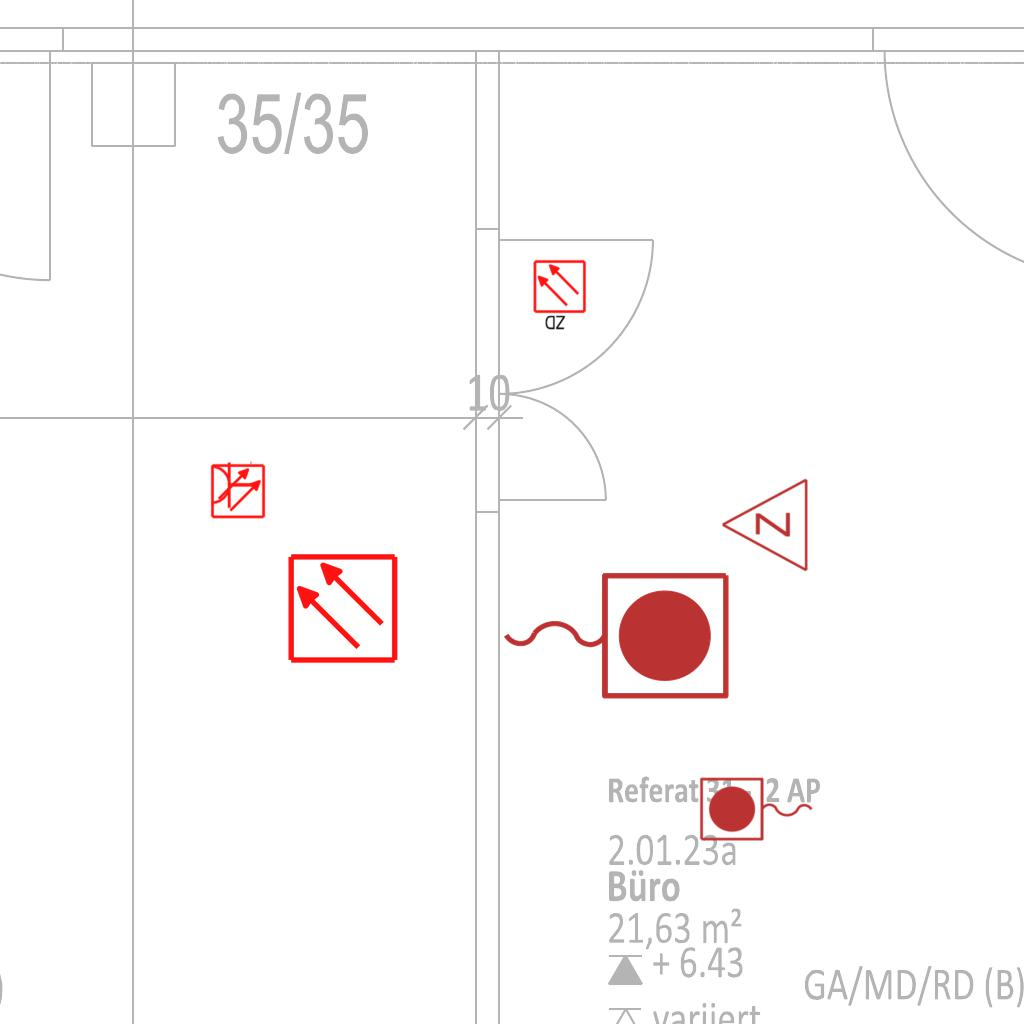RMO_Rauchmelder_optischer: (286, 552, 399, 665), (210, 463, 266, 519)
Schukosteckdose_einfach: (210, 459, 253, 509)
ZD_Melder_in_Zwischendecke_mit_Revisionsoeffnung_mind_40_x_40_cm: (532, 259, 589, 333)
Zimmersignalleuchte: (715, 477, 815, 575)
Zugtaster: (493, 562, 737, 706), (696, 774, 818, 846)
